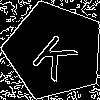K: (29, 26, 87, 83)
